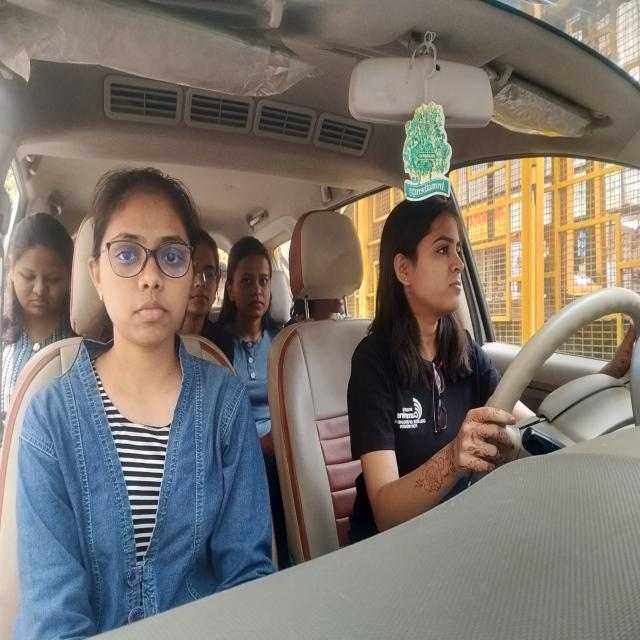person: (89, 179, 190, 345), (385, 194, 469, 311), (8, 217, 70, 316), (230, 237, 278, 326), (190, 233, 222, 318)
